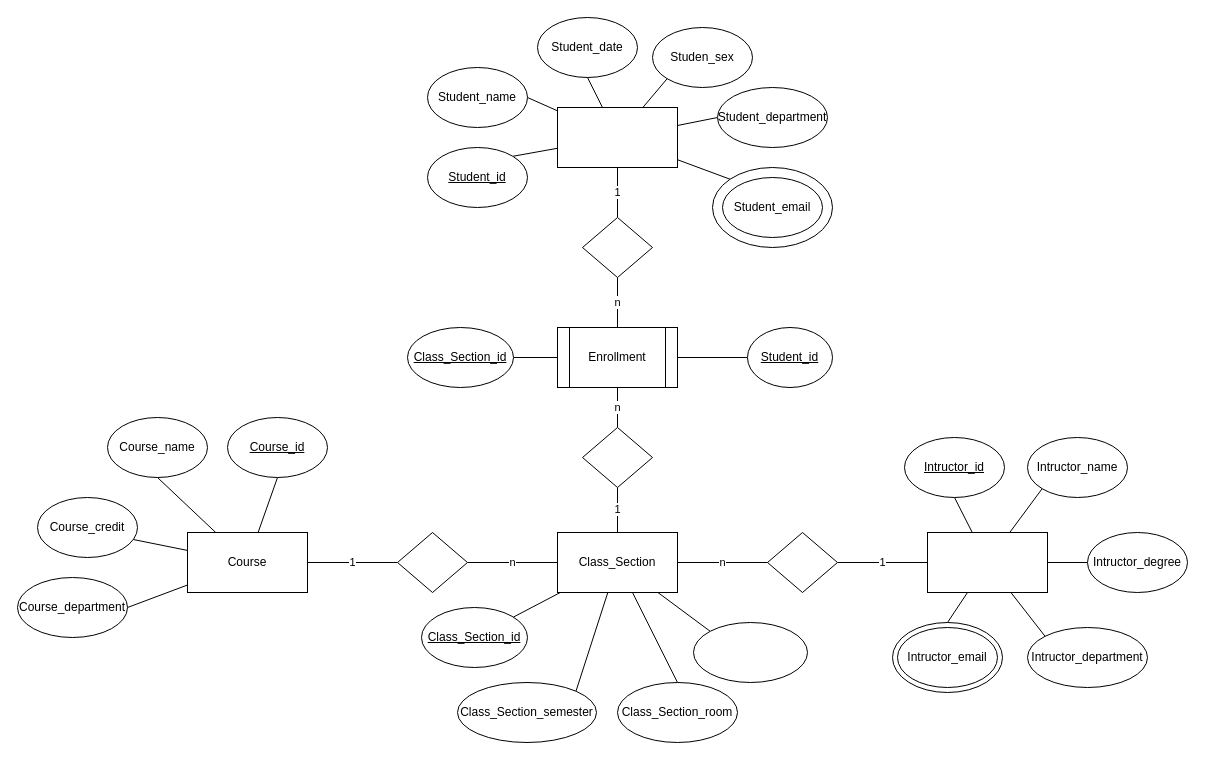
This 1205x760 diagram has some shape labels left out. Each missing label, with the centre of its shape:
"belong" goes at point 432,562.
"Class_Section_year" goes at point 750,652.
"enroll" goes at point 617,247.
"has" goes at point 617,457.
"intruct" goes at point 802,562.
"Intructor" goes at point 987,562.
"Student" goes at point 617,137.
